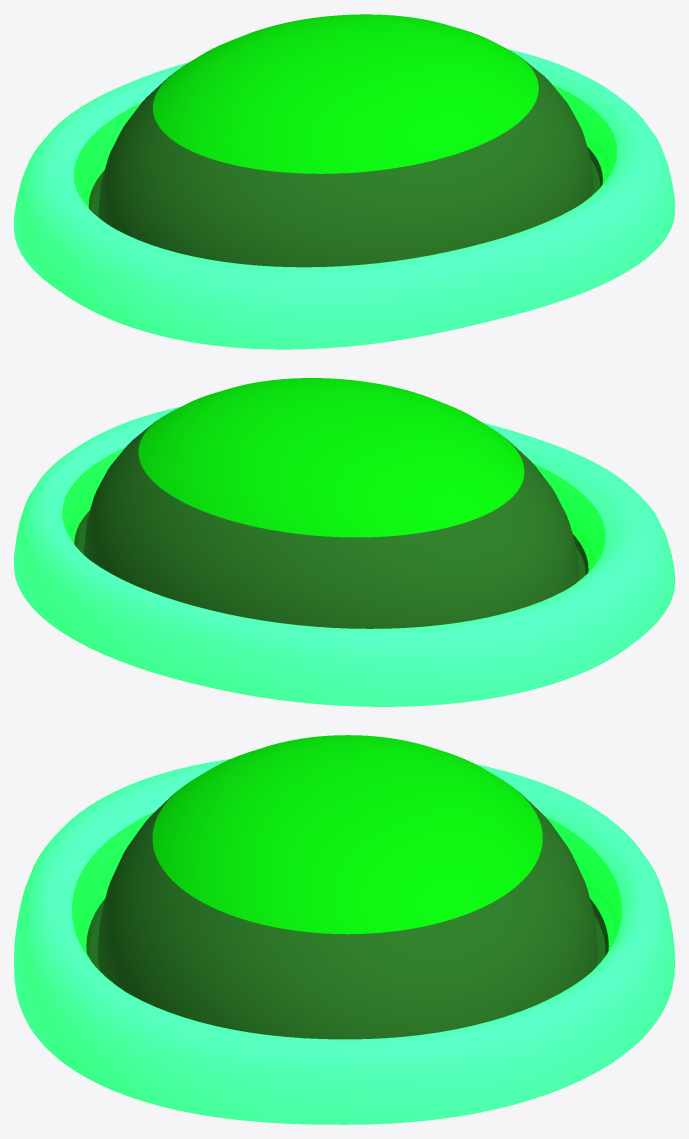
The model's file is dome_green_55.glb.
3 views of the same model, one above another, from view 1: azimuth 30°, elevation 25°; view 2: azimuth 150°, elevation 25°; view 3: azimuth 270°, elevation 25° (orthographic). The views are drawn at different scales.
Visible parts, largest first — view 1: dome_green_55; view 2: dome_green_55; view 3: dome_green_55.
Boxes of the visible parts, x1,y1,x2,y2 form: dome_green_55: (14, 14, 674, 349); dome_green_55: (14, 378, 674, 706); dome_green_55: (14, 735, 674, 1124).
Size of the model in its own units: 24 by 6.6 by 21.
